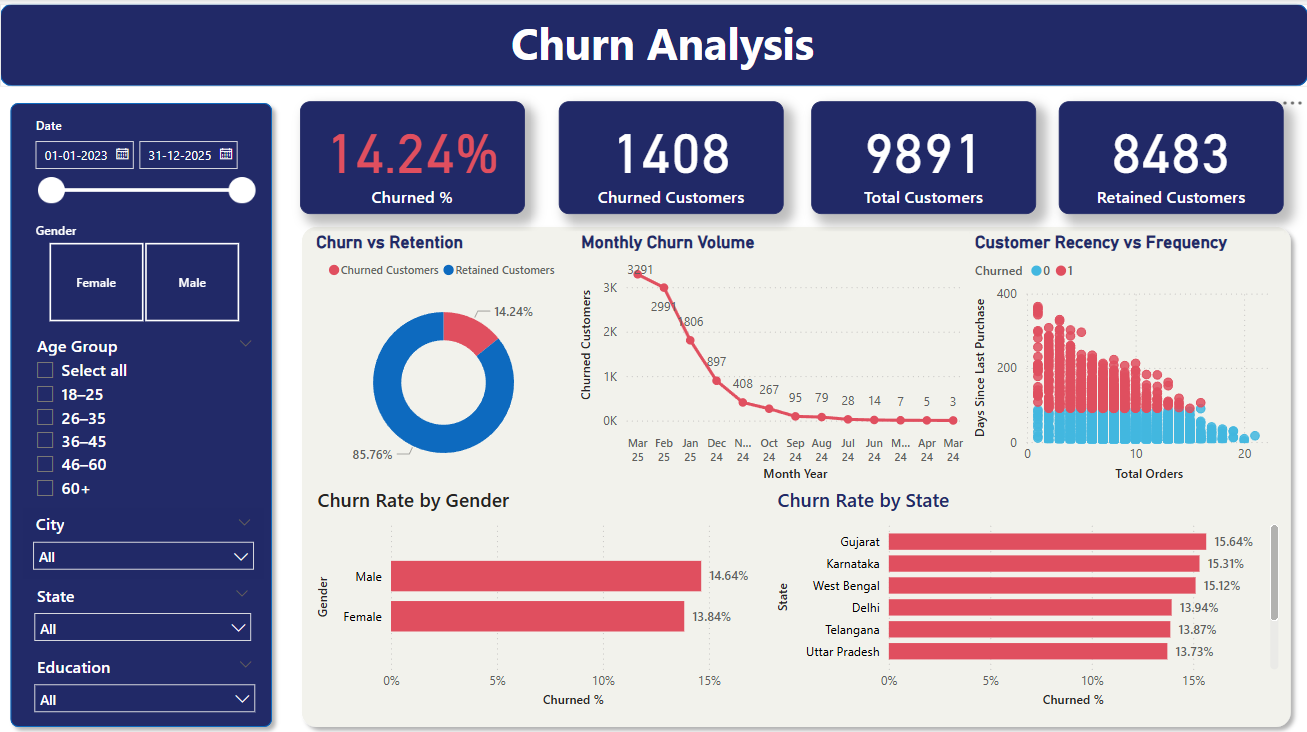

The page's visual inventory and layout, read from the dashboard file:
{"tool":"powerbi","page":{"name":"Churn Analysis","canvas":[1280,720],"ordinal":1},"visuals":[{"type":"shape","box":[1.2,91.7,273.9,628.5],"z":0},{"type":"shape","box":[286.1,212.8,985.6,507.5],"z":1000},{"type":"shape","box":[0,3.6,1280,80.8],"z":2000},{"type":"textbox","box":[485.5,7.3,325.3,74.6],"z":3000},{"type":"card","fields":{"Values":["_Measures.Total Customers"]},"box":[793.6,99,220.1,110.1],"z":4000},{"type":"card","fields":{"Values":["_Measures.Churned Customers"]},"box":[546.6,99,220.1,110.1],"z":5000},{"type":"card","fields":{"Values":["_Measures.Churned %"]},"box":[293.5,99,220,110],"z":6000},{"type":"card","fields":{"Values":["_Measures.Retained Customers"]},"box":[1035.7,99,220.1,110.1],"z":7000},{"type":"donutChart","title":"Churn vs Retention ","fields":{"Y":["_Measures.Churned Customers","_Measures.Retained Customers"]},"box":[304.5,226.2,259.2,249.5],"z":8000},{"type":"lineChart","title":"Monthly Churn Volume","fields":{"Category":["DateTable.Month Year"],"Y":["_Measures.Churned Customers (Monthly)"]},"box":[563.7,226.2,385.2,249.5],"z":9000},{"type":"clusteredBarChart","title":"Churn Rate by Gender","fields":{"Y":["_Measures.Churned %"],"Category":["customers.gender"]},"box":[305.7,475.7,451.2,221.3],"z":10000},{"type":"clusteredBarChart","title":"Churn Rate by State","fields":{"Y":["_Measures.Churned %"],"Category":["customers.state"]},"box":[755.7,475.7,500.1,221.3],"z":11000},{"type":"scatterChart","title":"Customer Recency vs Frequency","fields":{"X":["Sum(churn.orders)"],"Series":["churn.churned"],"Category":["churn.Churn Index"],"Y":["Sum(churn.days_since_last_purchase)"]},"box":[948.9,226.2,306.9,249.5],"z":12000},{"type":"slicer","fields":{"Values":["DateTable.Date"]},"box":[23.2,110.1,236,102.7],"z":13000},{"type":"slicer","fields":{"Values":["customers.Age Group"]},"box":[23.2,321.6,236,174.9],"z":14000},{"type":"slicer","fields":{"Values":["customers.gender"]},"box":[22,212.8,236,108.8],"z":15000},{"type":"slicer","fields":{"Values":["customers.state"]},"box":[23.2,566.2,232.3,69.7],"z":16000},{"type":"slicer","fields":{"Values":["customers.city"]},"box":[22,496.5,236,69.7],"z":17000},{"type":"slicer","fields":{"Values":["customers.education"]},"box":[23.2,635.9,236,72.1],"z":18000}]}

Visuals, with their boxes in screenshot pixels (x1, y1, x2, y2), scaled from the page's 1280x720 canvas onto the 1307x732 screenshot:
shape: pyautogui.locateOnScreen(1, 93, 281, 731)
shape: pyautogui.locateOnScreen(292, 216, 1299, 731)
shape: pyautogui.locateOnScreen(0, 4, 1306, 86)
textbox: pyautogui.locateOnScreen(496, 7, 828, 83)
card - _Measures.Total Customers: pyautogui.locateOnScreen(810, 101, 1035, 213)
card - _Measures.Churned Customers: pyautogui.locateOnScreen(558, 101, 783, 213)
card - _Measures.Churned %: pyautogui.locateOnScreen(300, 101, 524, 212)
card - _Measures.Retained Customers: pyautogui.locateOnScreen(1058, 101, 1282, 213)
"Churn vs Retention " donutChart: pyautogui.locateOnScreen(311, 230, 576, 484)
"Monthly Churn Volume" lineChart: pyautogui.locateOnScreen(576, 230, 969, 484)
"Churn Rate by Gender" clusteredBarChart: pyautogui.locateOnScreen(312, 484, 773, 709)
"Churn Rate by State" clusteredBarChart: pyautogui.locateOnScreen(772, 484, 1282, 709)
"Customer Recency vs Frequency" scatterChart: pyautogui.locateOnScreen(969, 230, 1282, 484)
slicer - DateTable.Date: pyautogui.locateOnScreen(24, 112, 265, 216)
slicer - customers.Age Group: pyautogui.locateOnScreen(24, 327, 265, 505)
slicer - customers.gender: pyautogui.locateOnScreen(22, 216, 263, 327)
slicer - customers.state: pyautogui.locateOnScreen(24, 576, 261, 646)
slicer - customers.city: pyautogui.locateOnScreen(22, 505, 263, 576)
slicer - customers.education: pyautogui.locateOnScreen(24, 646, 265, 720)
